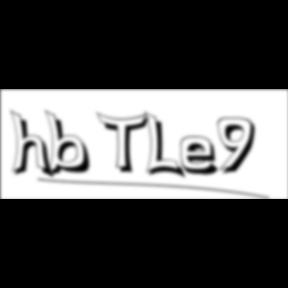9: (218, 117, 262, 177)
L: (145, 110, 189, 182)
T: (97, 112, 155, 176)
b: (44, 109, 98, 179)
e: (180, 135, 226, 178)
h: (10, 108, 58, 182)
